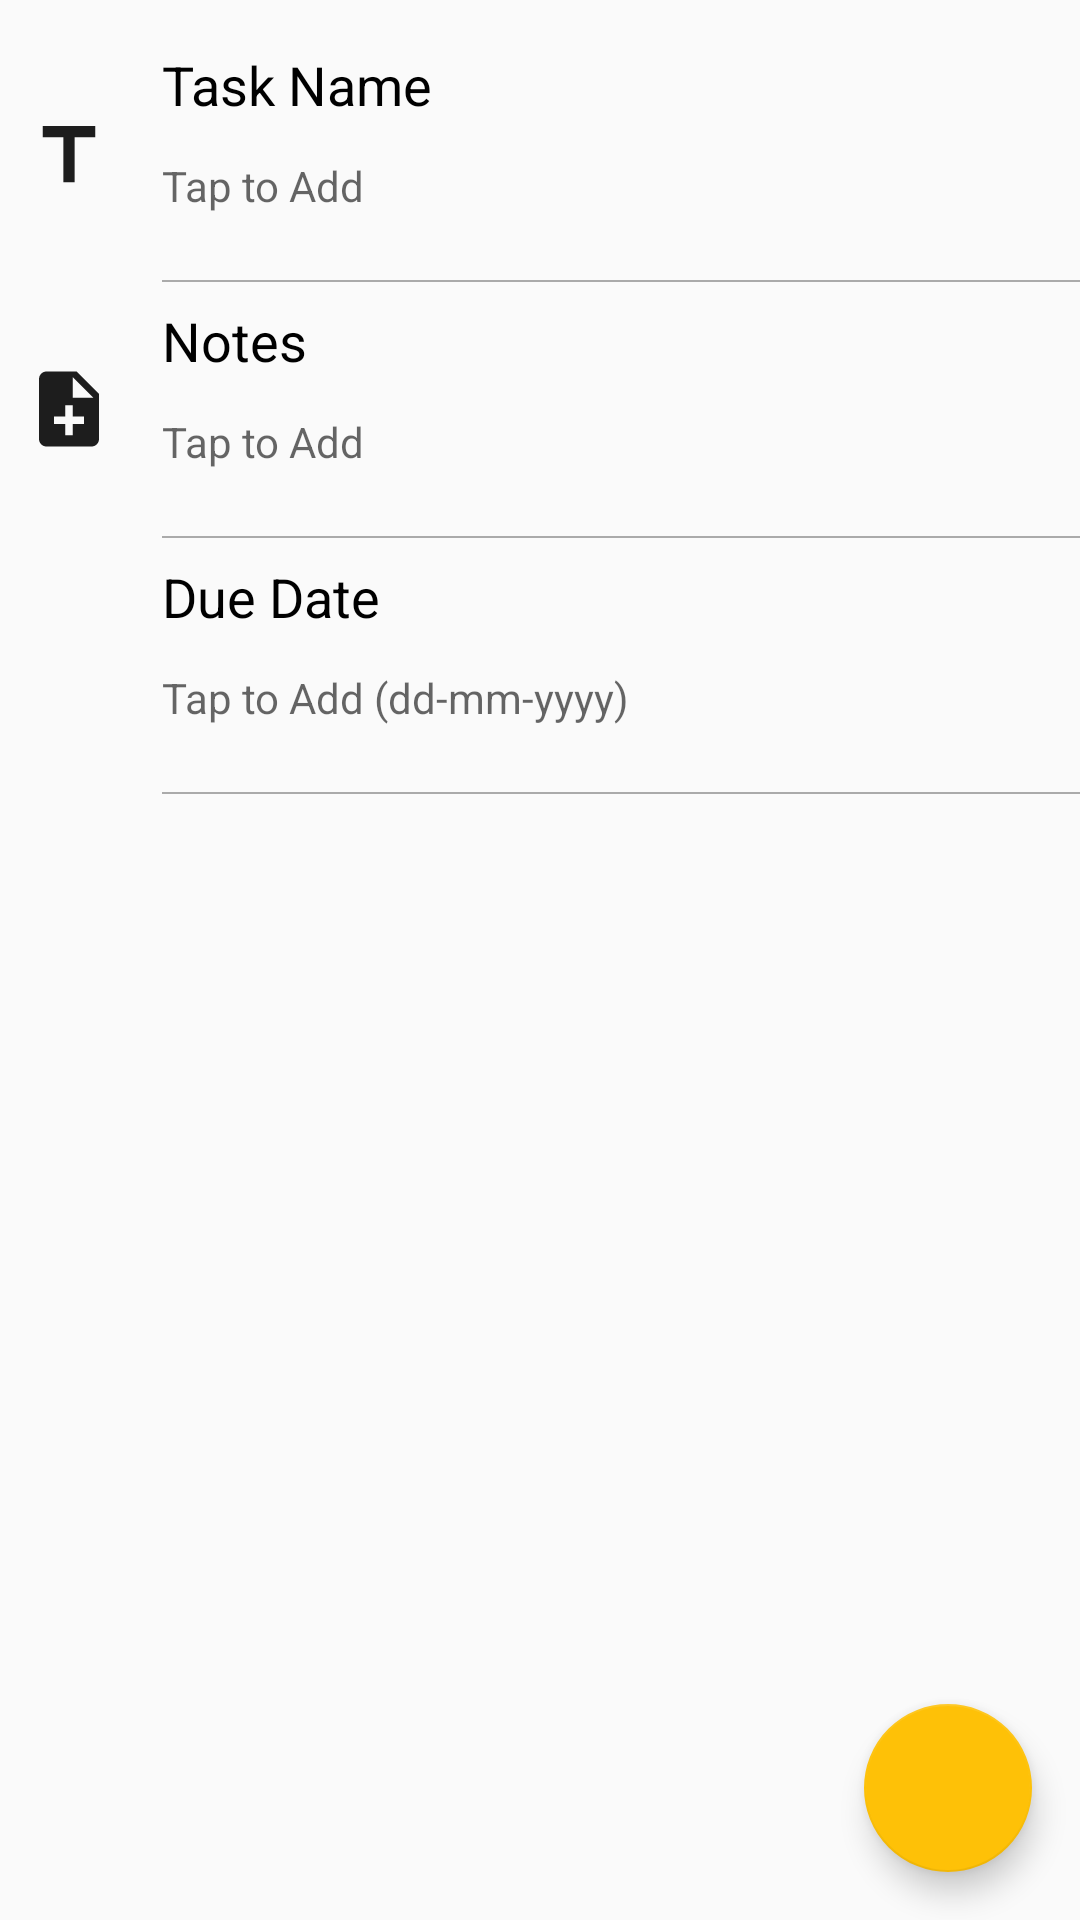

Icons on this 1080 × 1920 Android screen, each with the point to tap as (x,y):
note add: (69,409)
title: (69,154)
